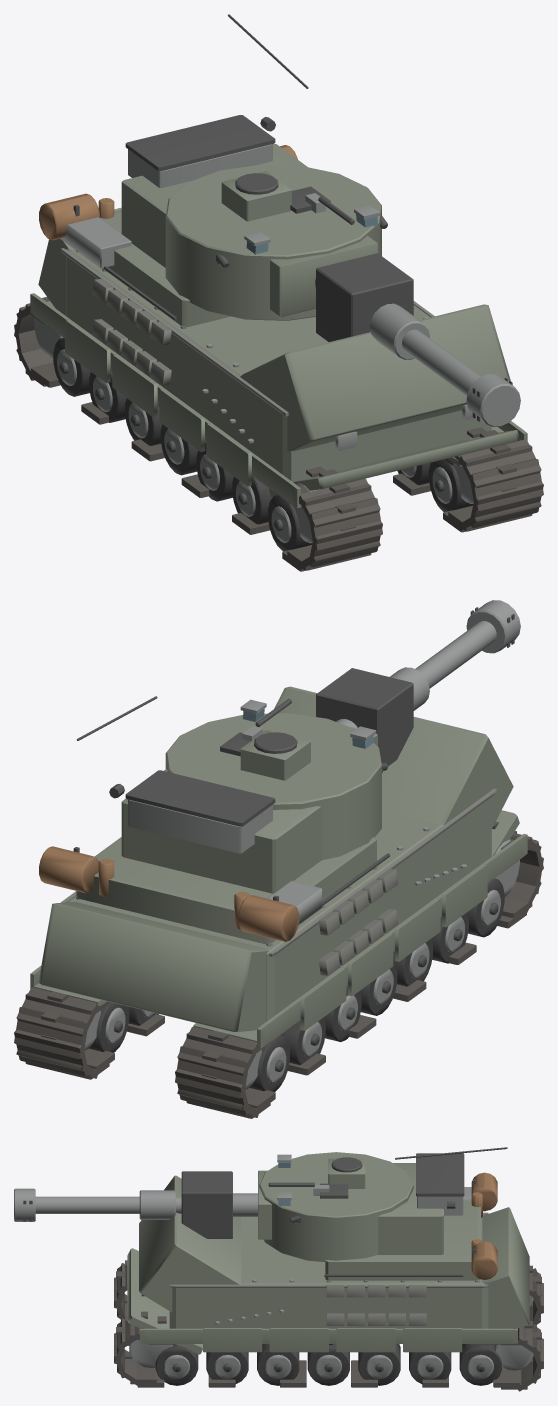
The model's file is tur.glb.
3 renders of one model, top to bottom at view 1: azimuth 30°, elevation 25°; view 2: azimuth 150°, elevation 25°; view 3: azimuth 270°, elevation 25°, orthographic. The views are drawn at different scales.
Parts seen in each view (by area): view 1: Hull, Turret, Barrel; view 2: Hull, Turret, Barrel; view 3: Hull, Turret, Barrel.
Boxes of the visible parts, left/top/right/bottom form: Hull: left=14, top=145, right=543, bottom=571; Turret: left=121, top=14, right=387, bottom=320; Barrel: left=315, top=253, right=520, bottom=426; Hull: left=14, top=686, right=543, bottom=1118; Turret: left=76, top=696, right=387, bottom=893; Barrel: left=316, top=600, right=520, bottom=766; Hull: left=114, top=1172, right=543, bottom=1391; Turret: left=258, top=1147, right=507, bottom=1261; Barrel: left=14, top=1171, right=257, bottom=1238.
Bounding box in the file's own units: 3.87 × 4.96 × 10.3.
